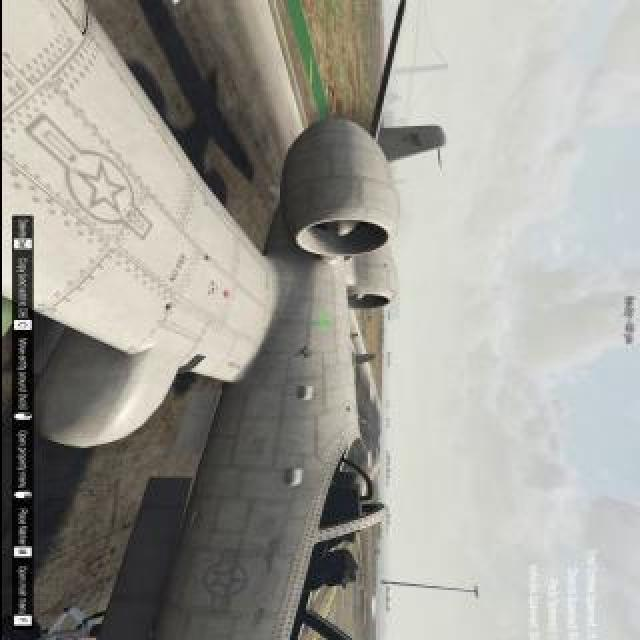crack: (203, 280, 223, 300), (292, 346, 316, 360), (196, 252, 214, 264), (158, 304, 178, 312)
